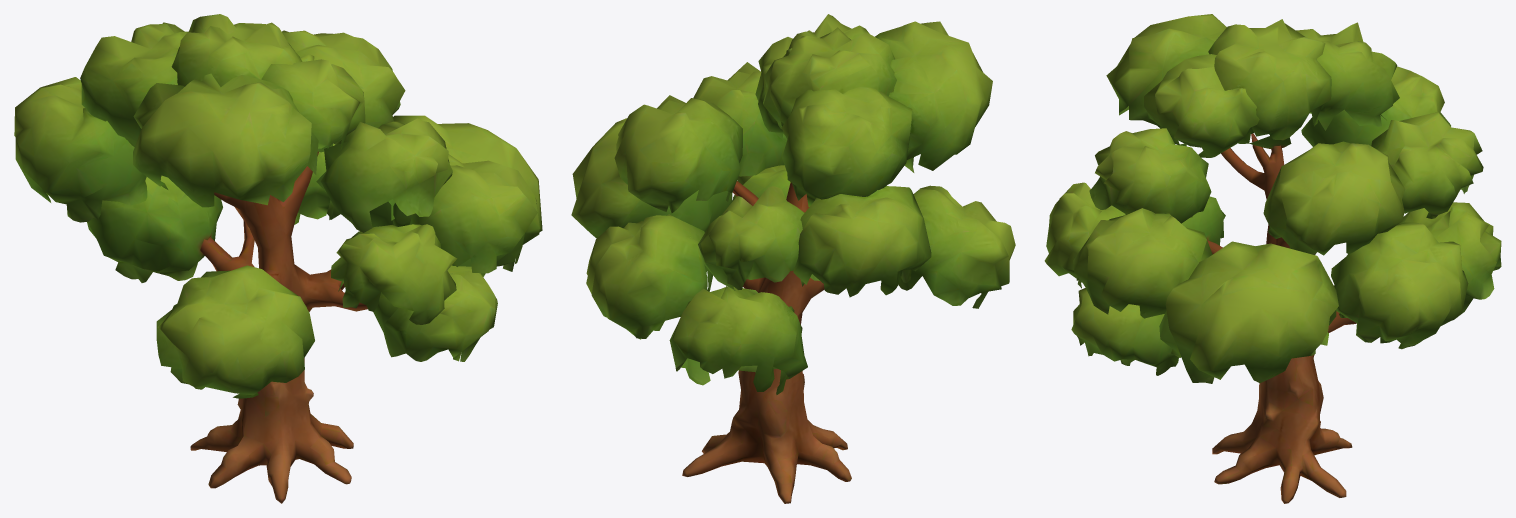
File: arvore.glb
The picture shows the model from 3 angles, left to right: view 1: azimuth 30°, elevation 25°; view 2: azimuth 150°, elevation 25°; view 3: azimuth 270°, elevation 25°; orthographic projection. The views are drawn at different scales.
Visible parts, largest first — view 1: tripo_node_07cafe7c-612c-49c0-9cae-df2e0886a20f; view 2: tripo_node_07cafe7c-612c-49c0-9cae-df2e0886a20f; view 3: tripo_node_07cafe7c-612c-49c0-9cae-df2e0886a20f.
Part boxes in pixels (x1,y1,x2,y2): tripo_node_07cafe7c-612c-49c0-9cae-df2e0886a20f: (14, 14, 542, 503); tripo_node_07cafe7c-612c-49c0-9cae-df2e0886a20f: (571, 14, 1015, 503); tripo_node_07cafe7c-612c-49c0-9cae-df2e0886a20f: (1044, 14, 1501, 503).
Size of the model in its own units: 0.9708 by 0.998 by 0.9941.
1 material, 1 textured.
